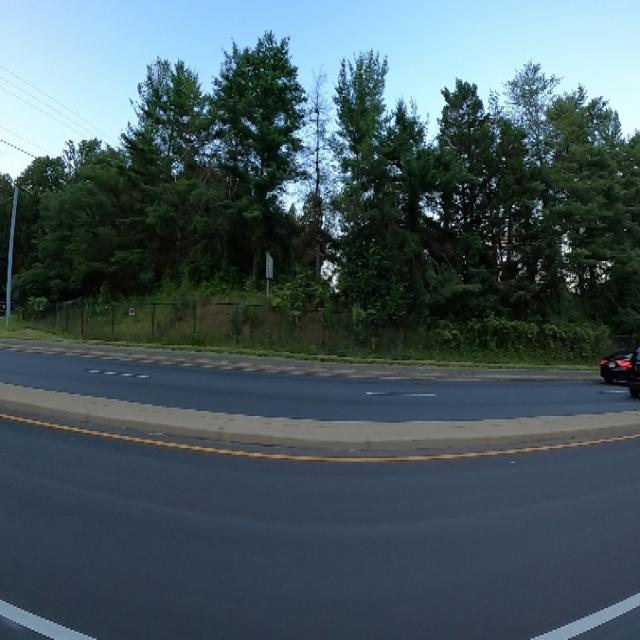cars: (596, 346, 636, 386), (630, 340, 640, 401)
